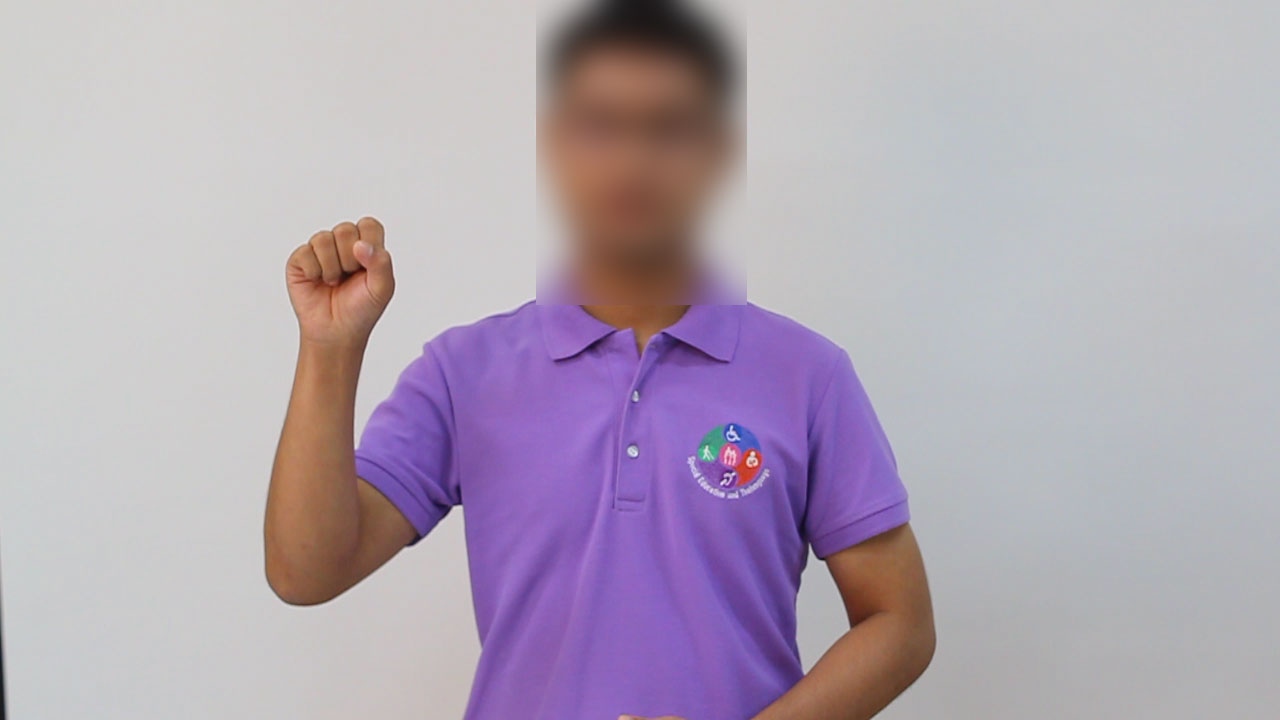sor: (269, 211, 402, 346)
